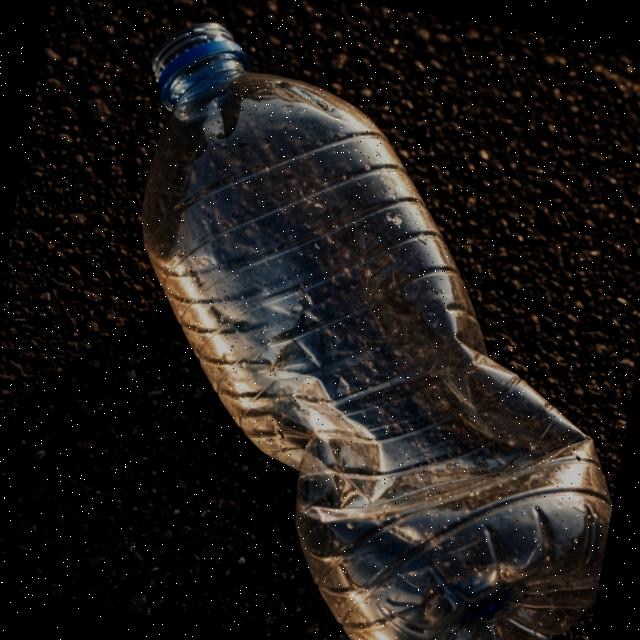plastic: (50, 4, 640, 640)
